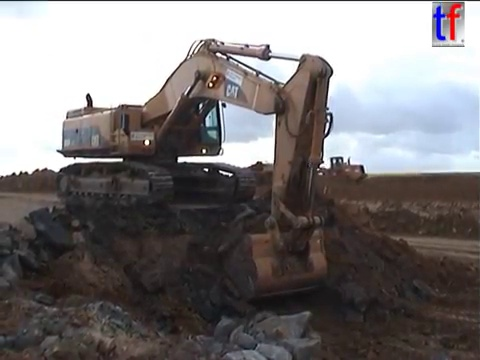excavator: (53, 35, 337, 304)
wheel loader: (290, 154, 369, 188)
